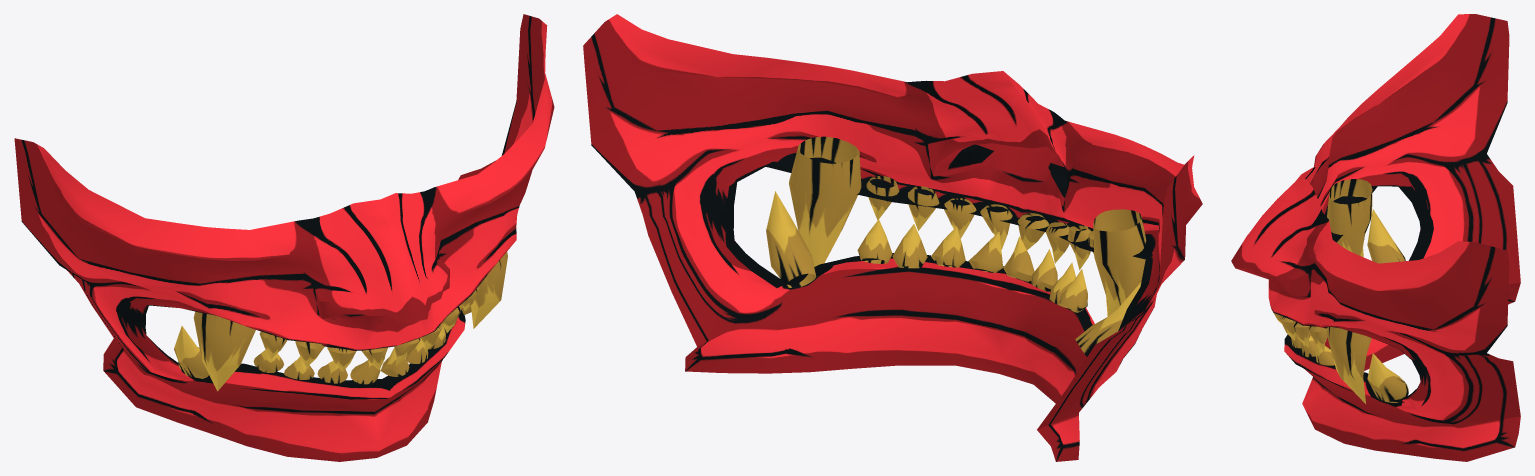
File: Mempo_mask-jasper.glb
3 renders of one model, left to right at view 1: azimuth 30°, elevation 25°; view 2: azimuth 150°, elevation 25°; view 3: azimuth 270°, elevation 25°, orthographic. The views are drawn at different scales.
Parts seen in each view (by area): view 1: Plane.001; view 2: Plane.001; view 3: Plane.001.
Boxes of the visible parts, x1=… form: Plane.001: x1=14, y1=14, x2=554, y2=461; Plane.001: x1=583, y1=14, x2=1202, y2=461; Plane.001: x1=1231, y1=14, x2=1520, y2=461.
Size of the model in its own units: 0.1864 by 0.1091 by 0.0994.
Materials: 1 (1 with a texture image).
